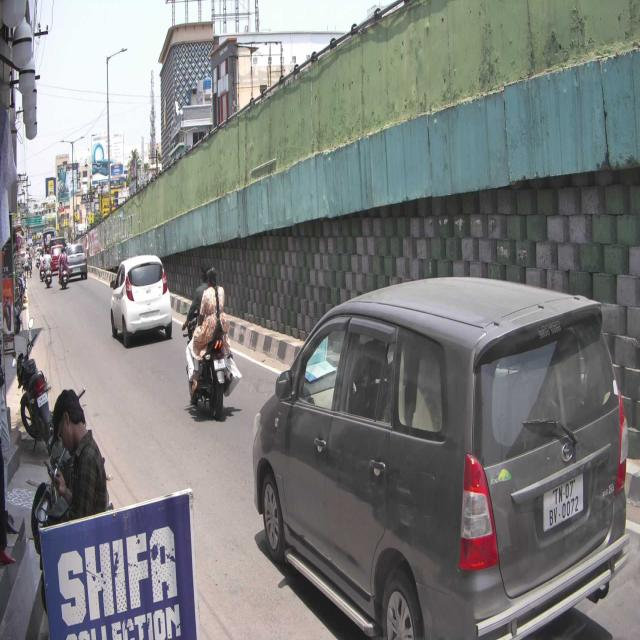double_rider: (179, 255, 242, 420)
